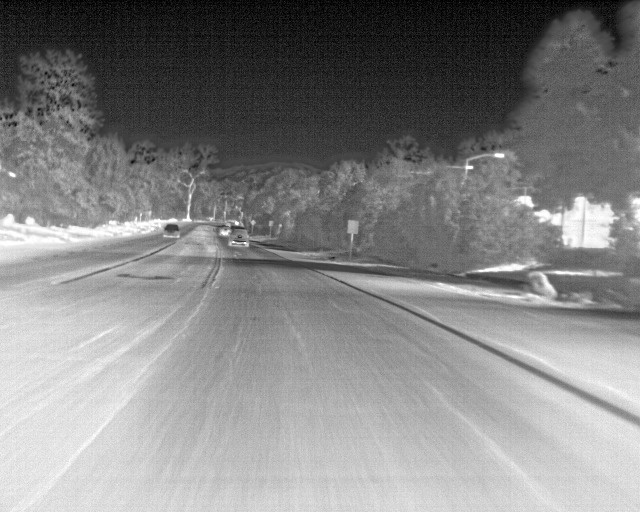vehicle: (228, 225, 250, 248), (162, 223, 183, 239)
